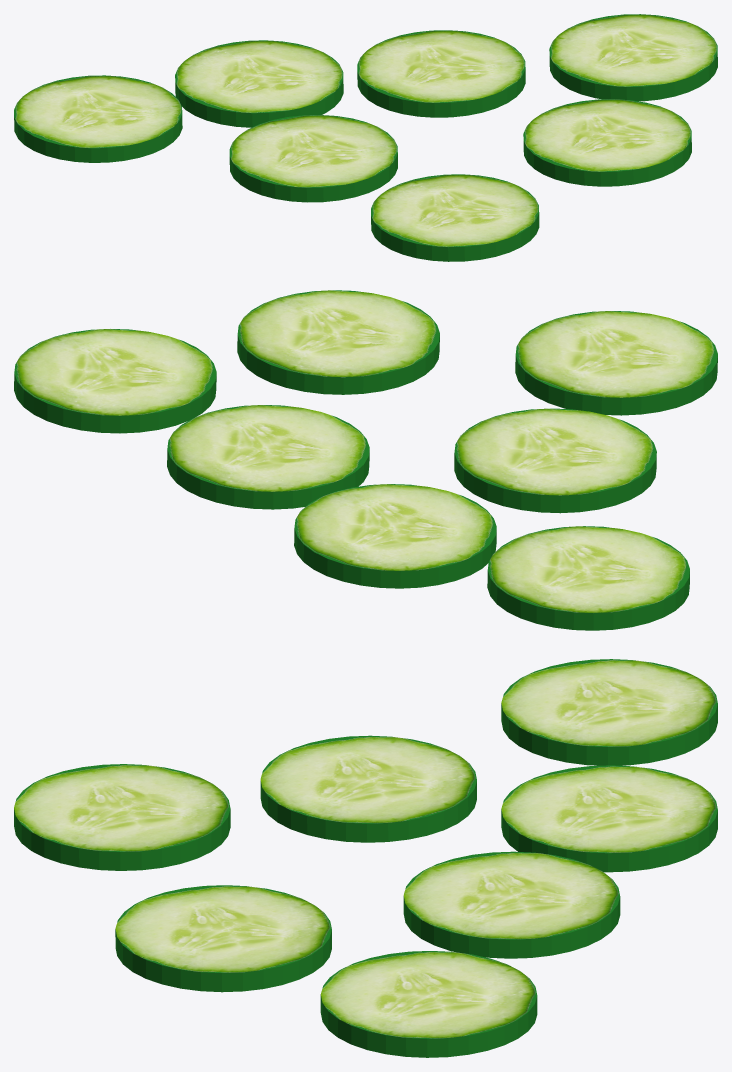
Rendered from набор огурцов.fbx.
3 renders of one model, top to bottom at view 1: azimuth 30°, elevation 25°; view 2: azimuth 150°, elevation 25°; view 3: azimuth 270°, elevation 25°, orthographic. The views are drawn at different scales.
Visible parts, largest first — view 1: Окружность.012; view 2: Окружность.012; view 3: Окружность.012.
Part boxes in pixels (x1,y1,x2,y2): Окружность.012: (14, 14, 717, 261); Окружность.012: (14, 290, 717, 630); Окружность.012: (14, 659, 717, 1057).
Size of the model in its own units: 105 by 3.56 by 81.7.
